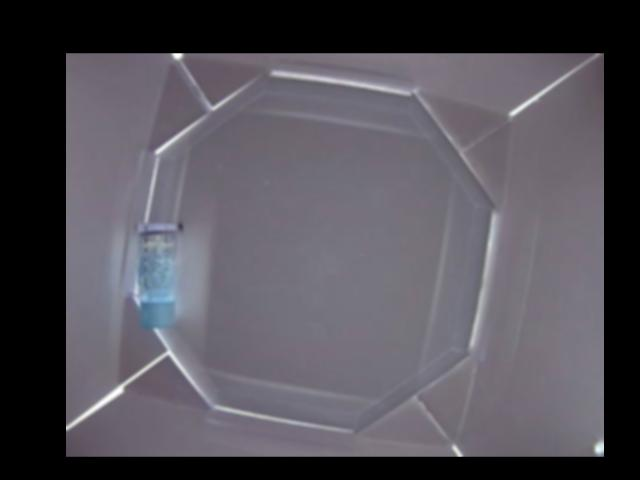Bottle: (134, 221, 178, 329)
